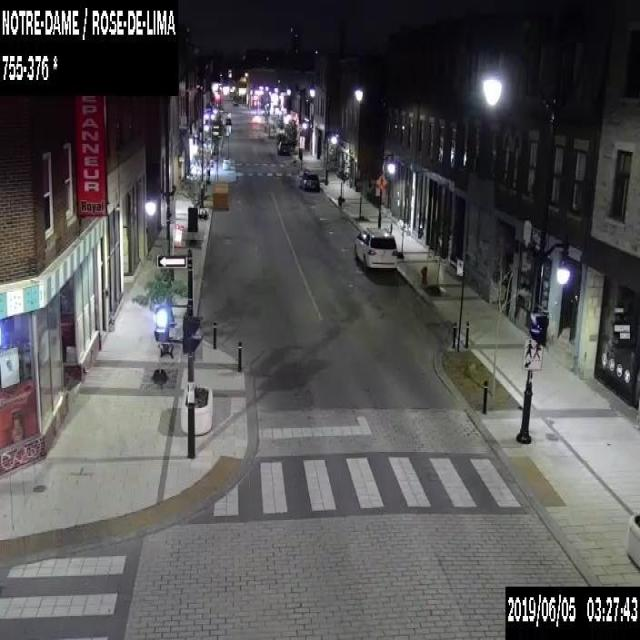vehicle: (354, 226, 397, 272), (298, 169, 320, 191), (276, 140, 290, 154), (232, 99, 238, 105)
